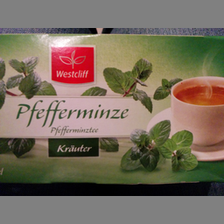tea: (1, 33, 224, 186)
